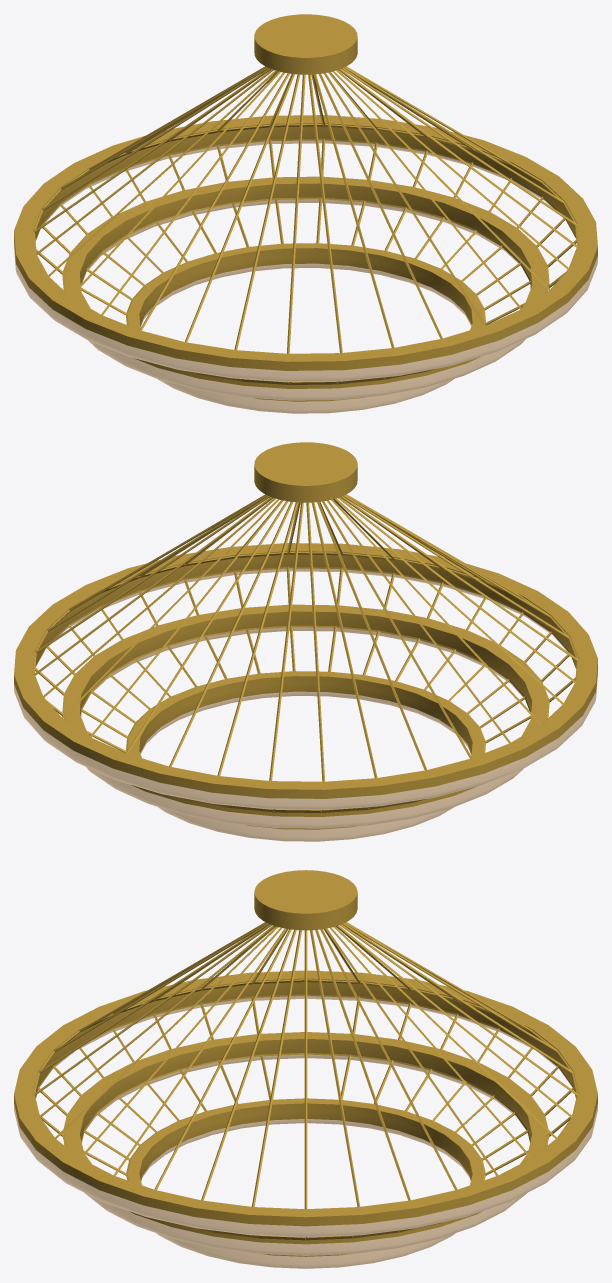
Rendered from chandelier.glb.
3 views of the same model, one above another, from view 1: azimuth 30°, elevation 25°; view 2: azimuth 150°, elevation 25°; view 3: azimuth 270°, elevation 25° (orthographic).
Parts seen in each view (by area): view 1: Chandelier; view 2: Chandelier; view 3: Chandelier.
Boxes of the visible parts, left/top/right/bottom form: Chandelier: left=14, top=14, right=597, bottom=413; Chandelier: left=14, top=442, right=597, bottom=841; Chandelier: left=14, top=870, right=597, bottom=1268.
Size of what is drawn, in the model's own units: 6.7 by 3.84 by 6.7.
2 materials, 1 textured.
